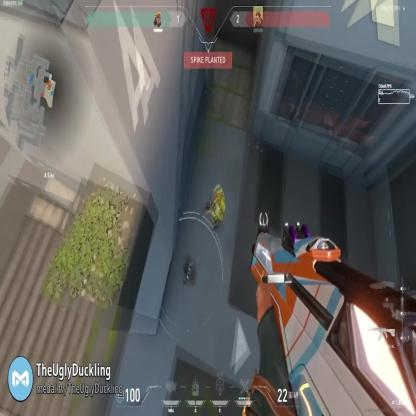enemy: (208, 185, 225, 234)
enemy_head: (214, 192, 221, 209)
